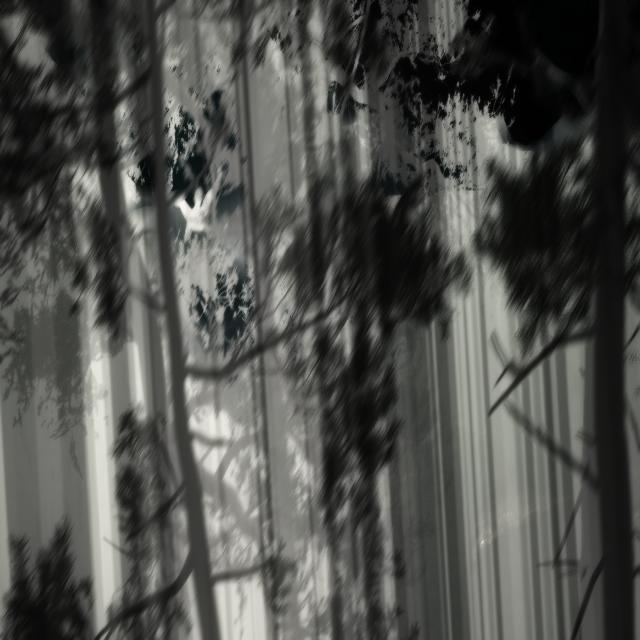Human: (165, 168, 228, 240)
